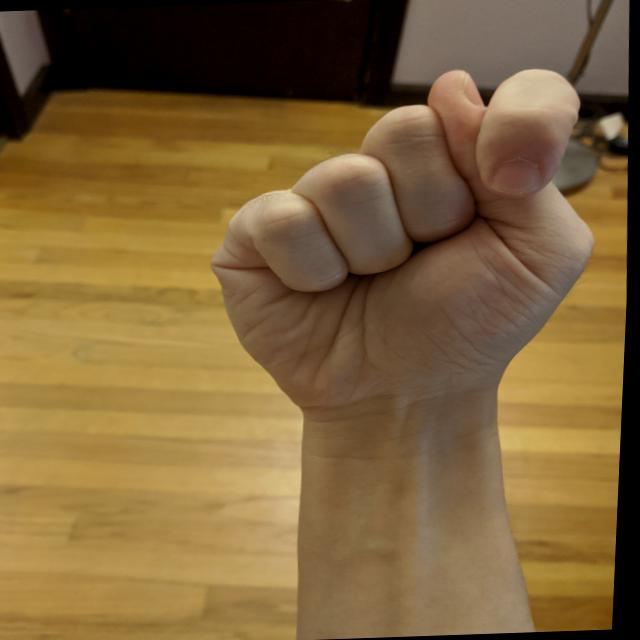T: (188, 54, 622, 433)
